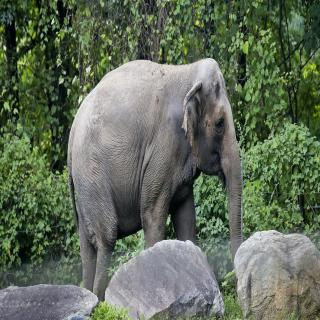Elephant: (63, 52, 247, 266)
